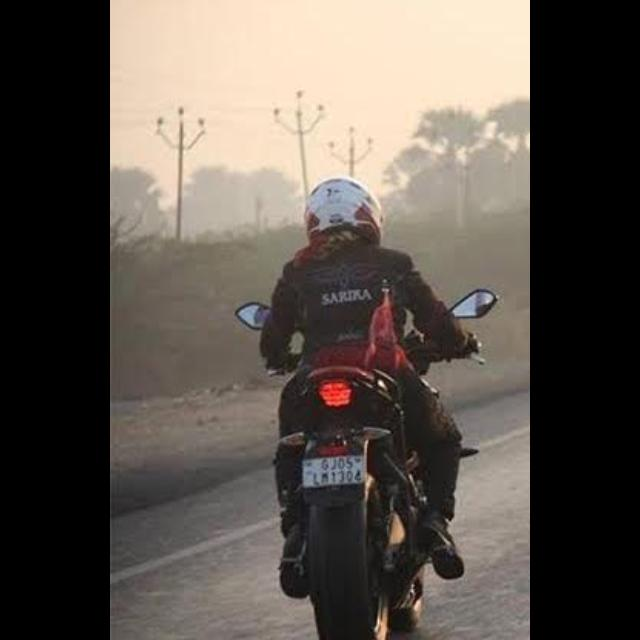with helmet: (303, 178, 383, 236)
